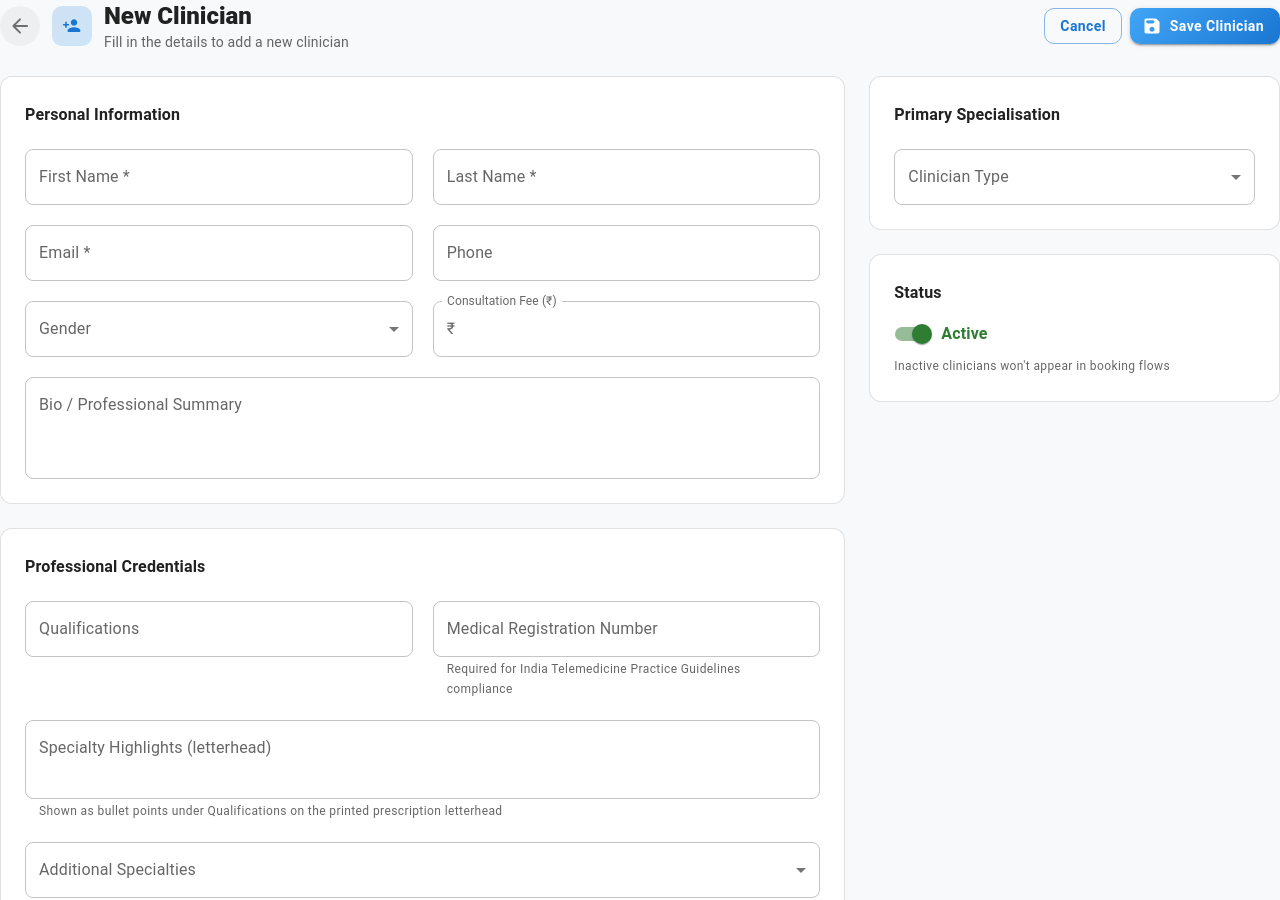
Test case: clinicians/CreateClinicianPage (REQ141) › requires a "covering for" clinician once the locum toggle is on (zod .refine())
Type "Sarah" into the field labelled "First Name *" at coordinates (219, 177), box [25,149,413,205]
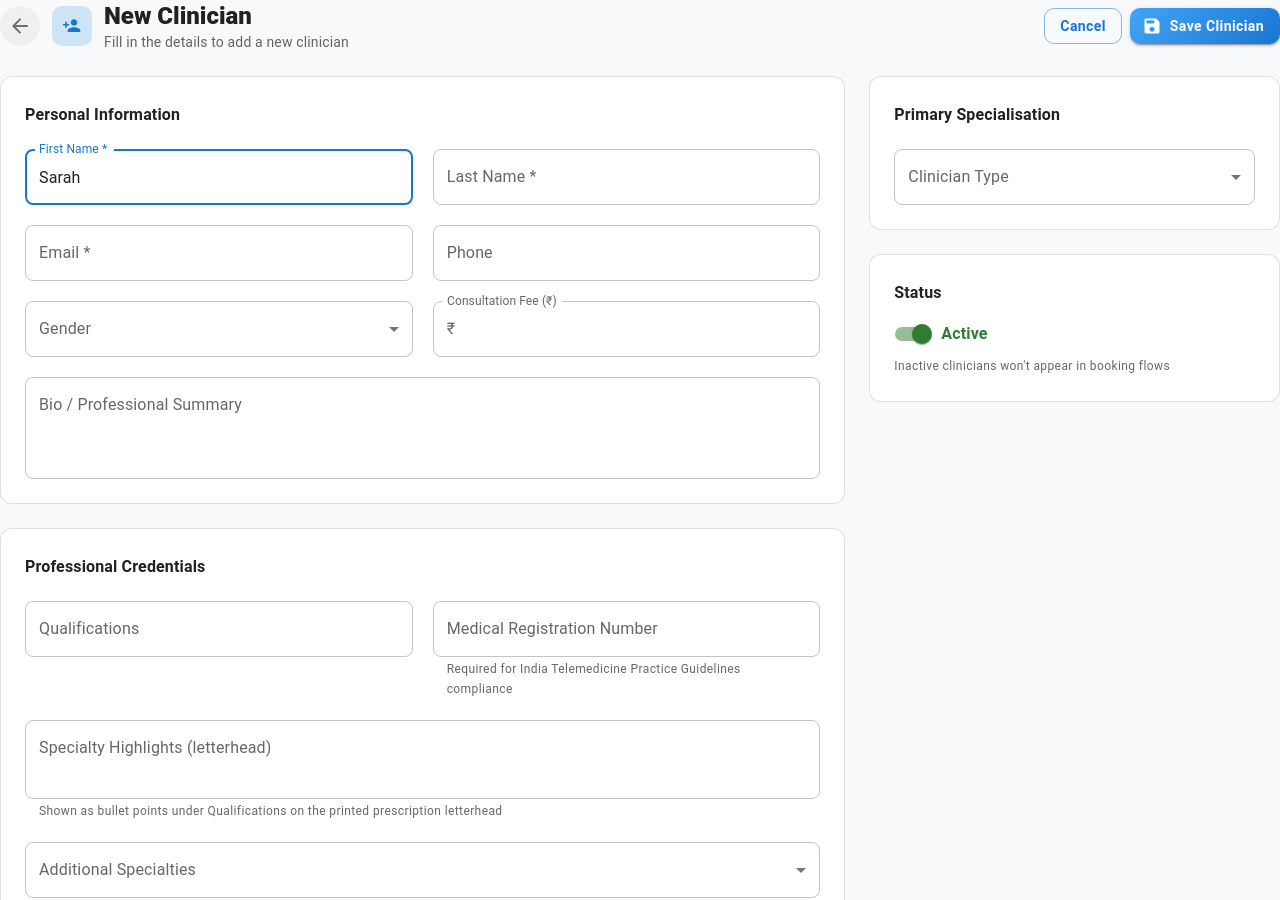
Type "Mitchell" into the field labelled "Last Name *" at coordinates (627, 177), box [433,149,820,205]
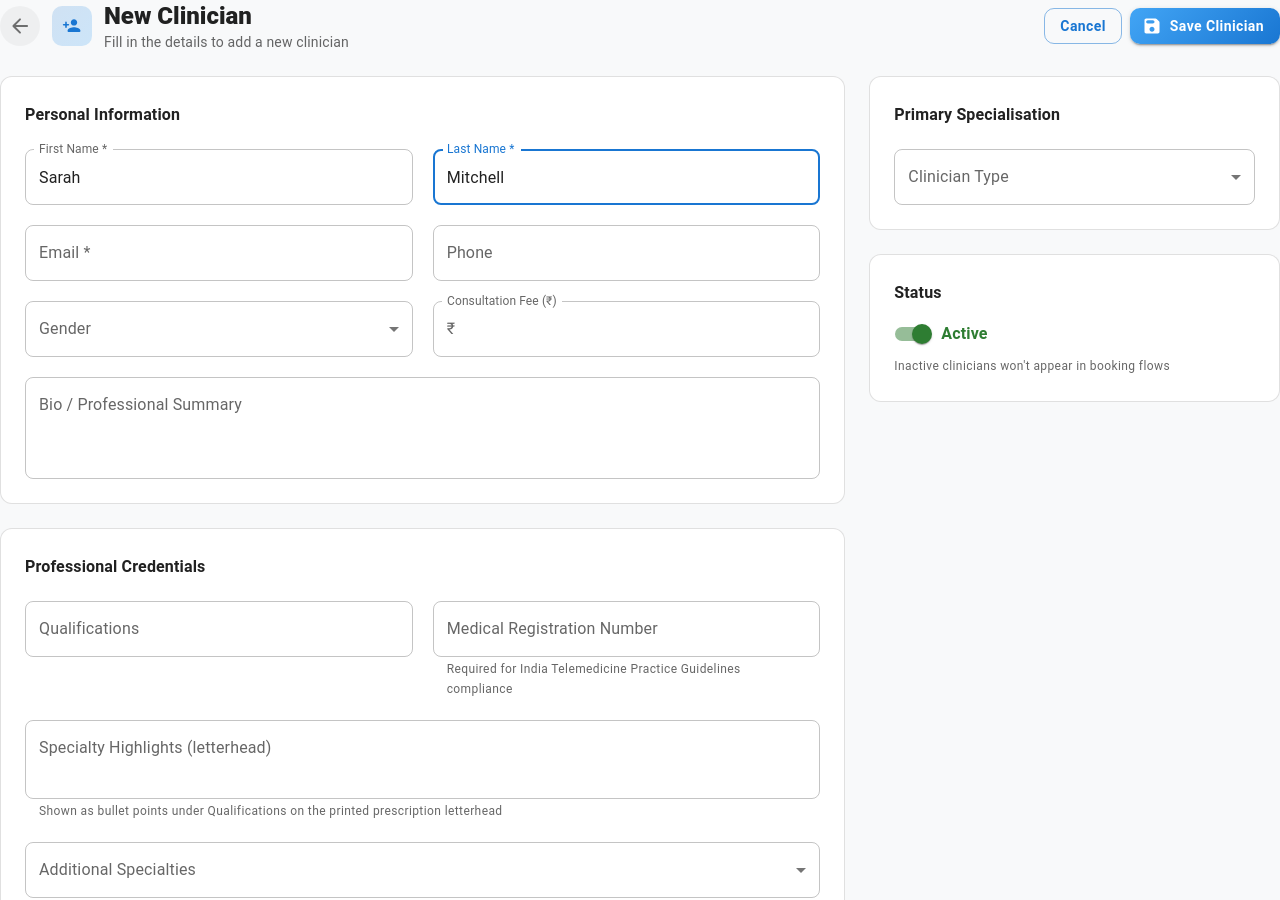
Type "sarah@example.com" into the field labelled "Email *" at coordinates (219, 253), box [25,225,413,281]
(page scrolled)
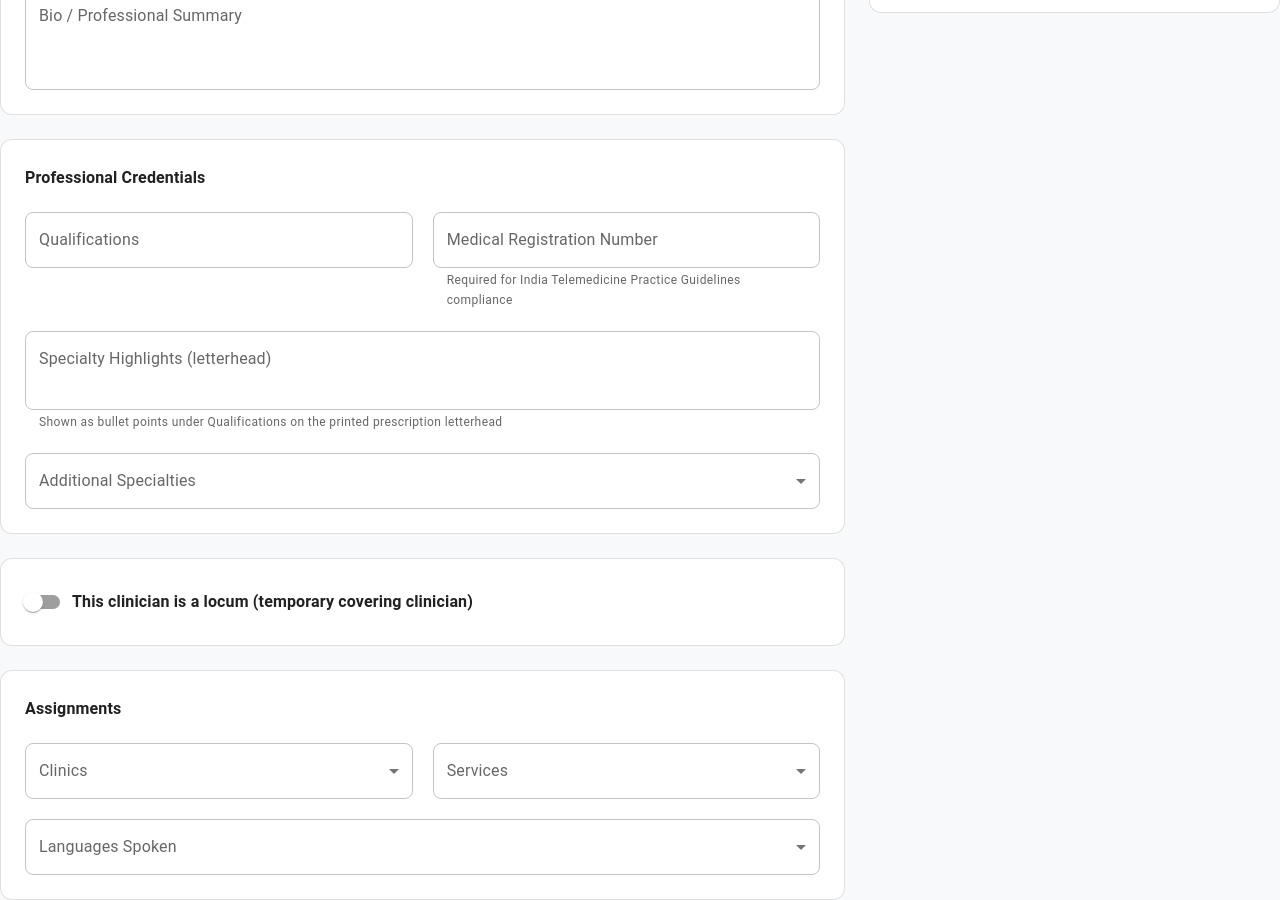
Click the text "This clinician is a locum (temporary covering clinician)" at coordinates (272, 602), box [72,590,473,614]
(page scrolled)
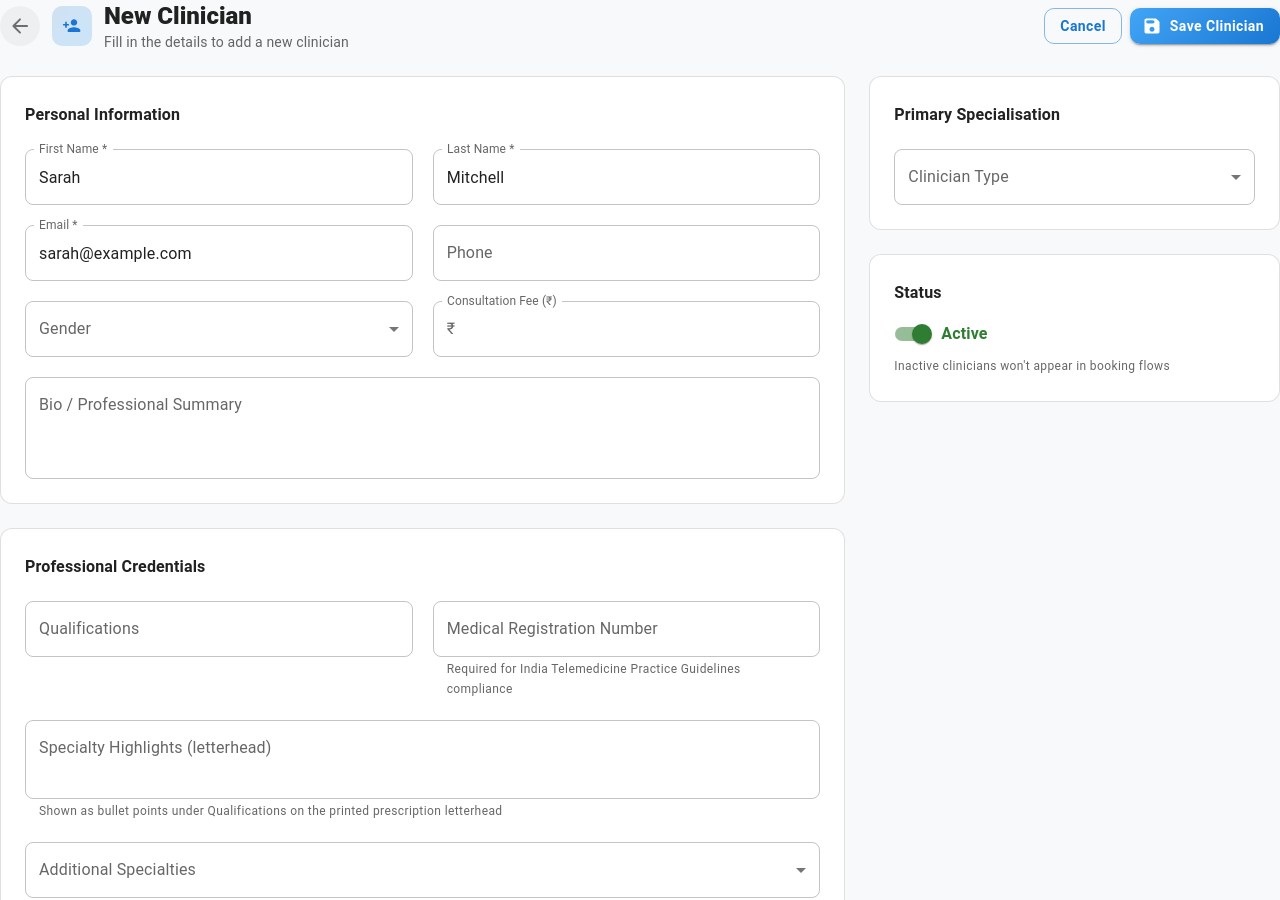
Click the button "Save Clinician" at coordinates (1205, 26), box [1130,8,1279,44]
(page scrolled)
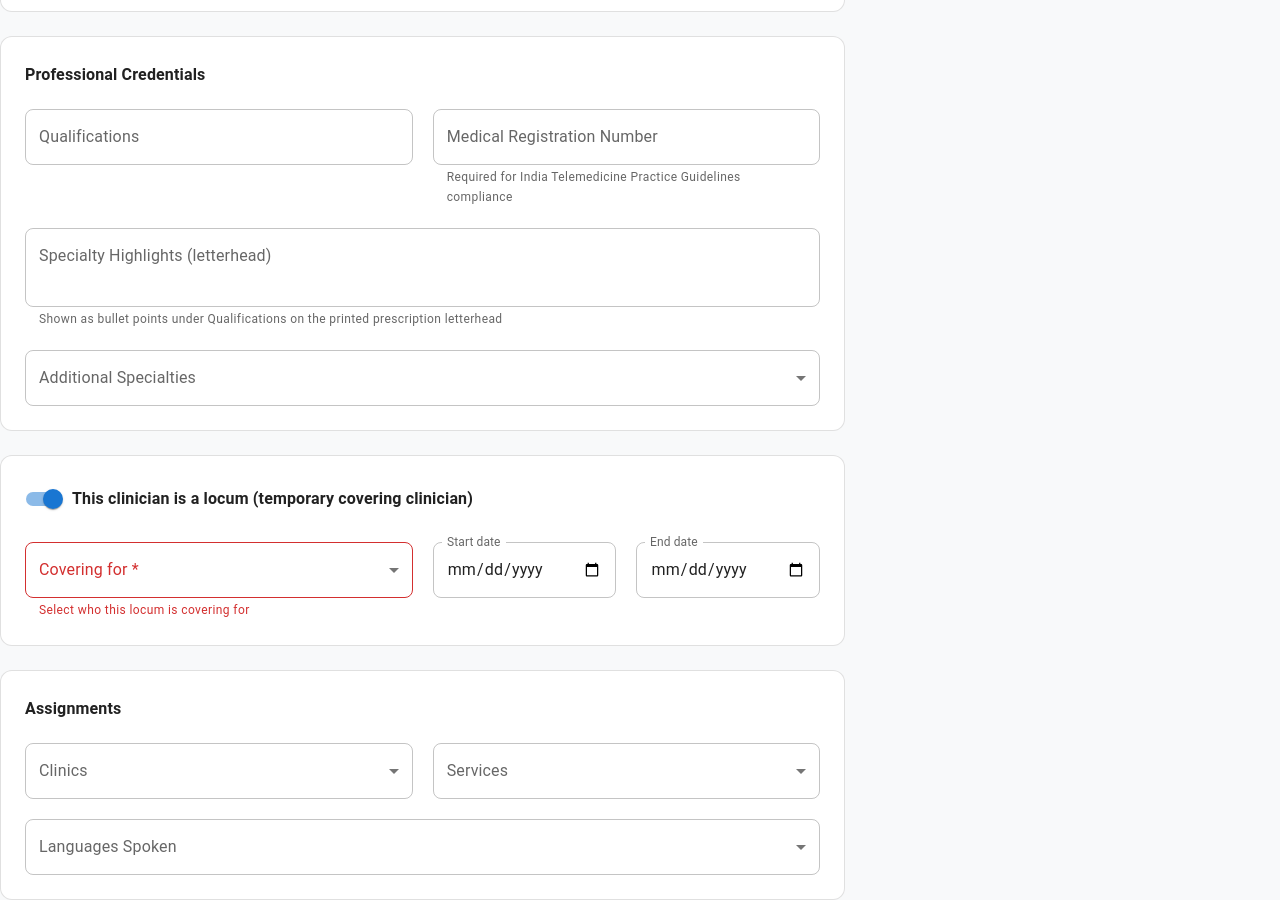
Now the text "Select who this locum is covering for" is shown, box [39,603,250,617]
